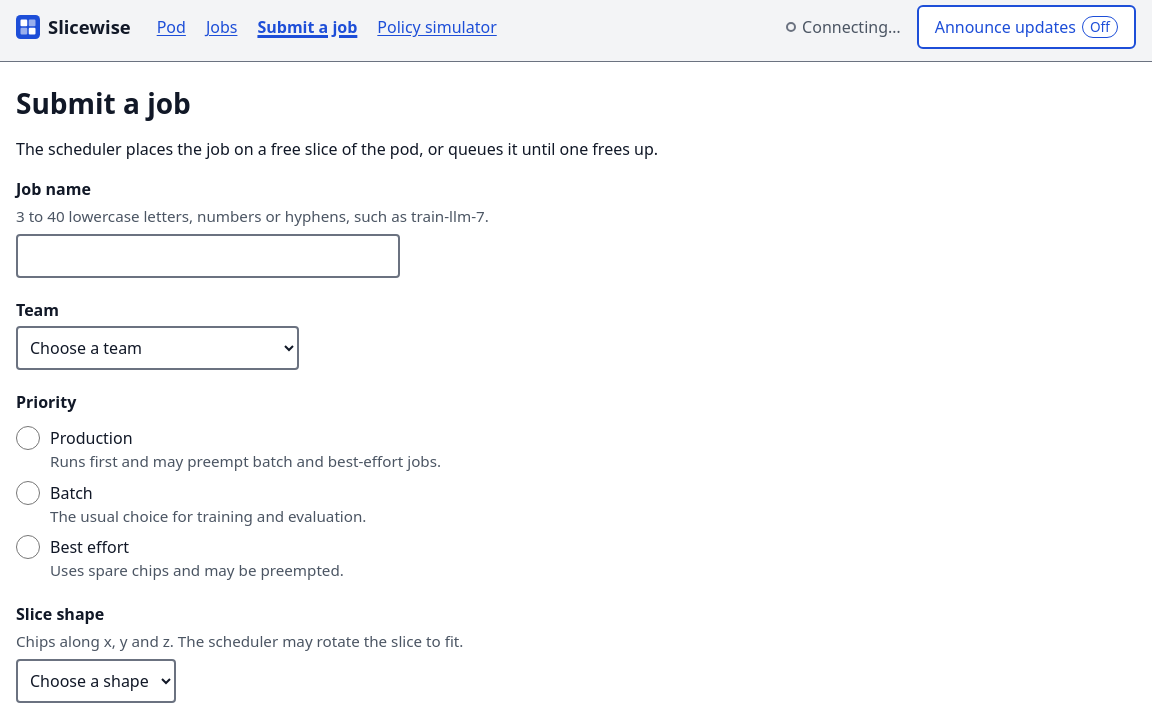
Test: submit form › offers only shapes that fit the pod and submits a valid job
Step 1. Type "train-llm-7" into the field labelled "Job name" → (208, 256), box [16,234,400,278]
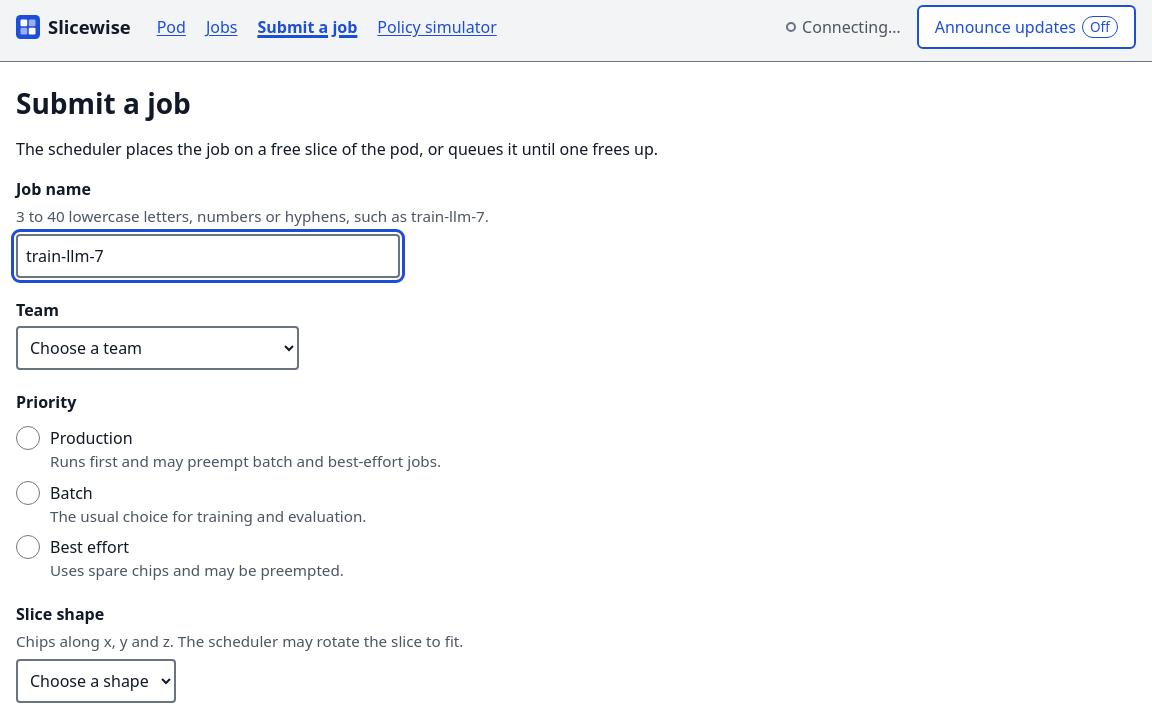
Step 2. Select "research (quota 6 chips, using 4)" in the dropdown labelled "Team" → (158, 348), box [16,326,299,370]
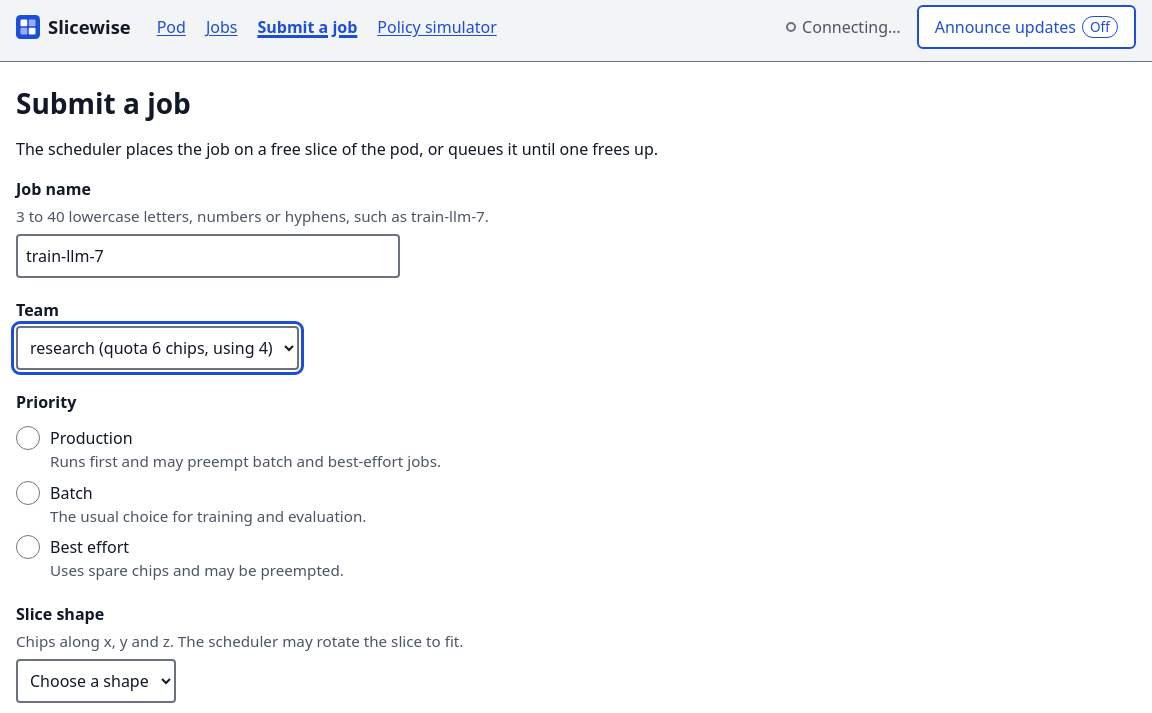
Step 3. Click the radio button labelled "Batch" → click(28, 493), box [16,481,40,505]
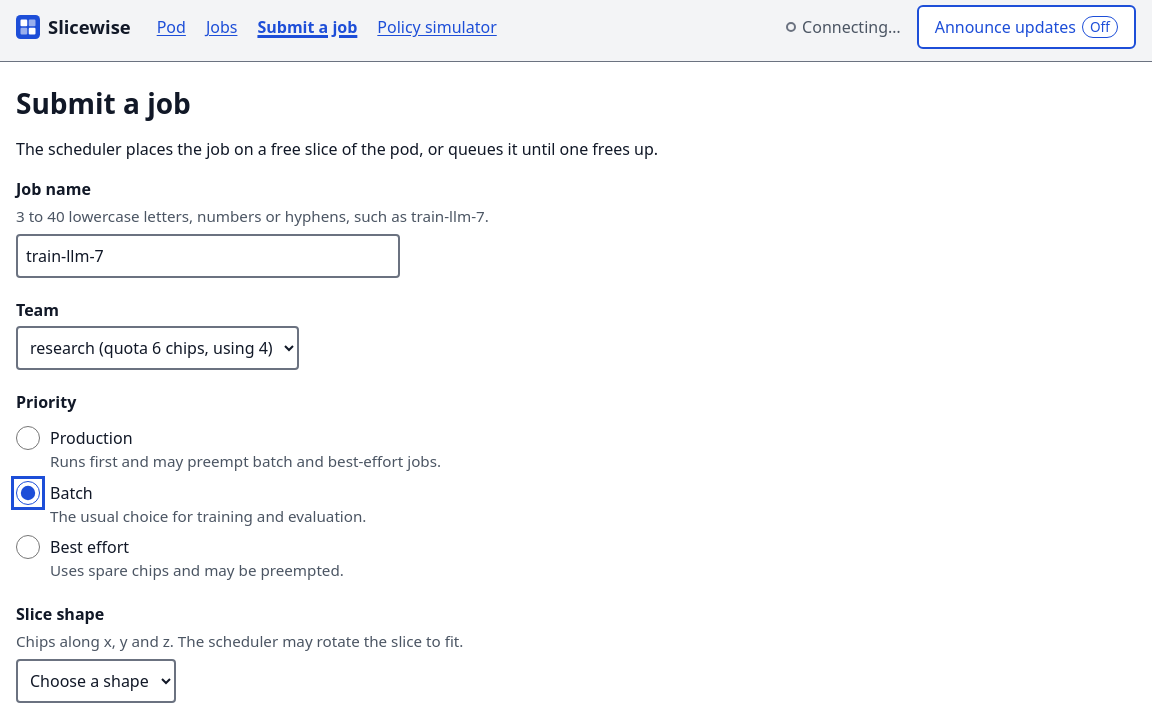
Step 4. Select "2x2x1 (4 chips)" in the dropdown labelled "Slice shape" → (96, 681), box [16,659,176,703]
(page scrolled)
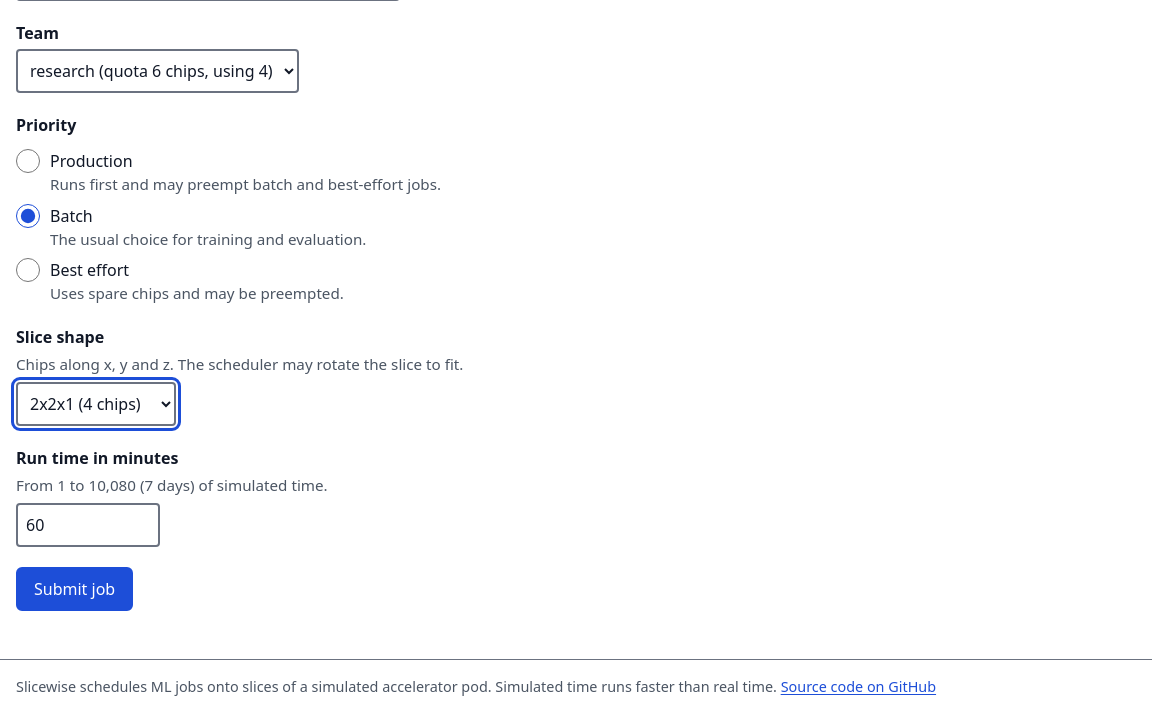
Step 5. Replace the text in the field labelled "Run time in minutes" with "90" → (88, 525), box [16,503,160,547]
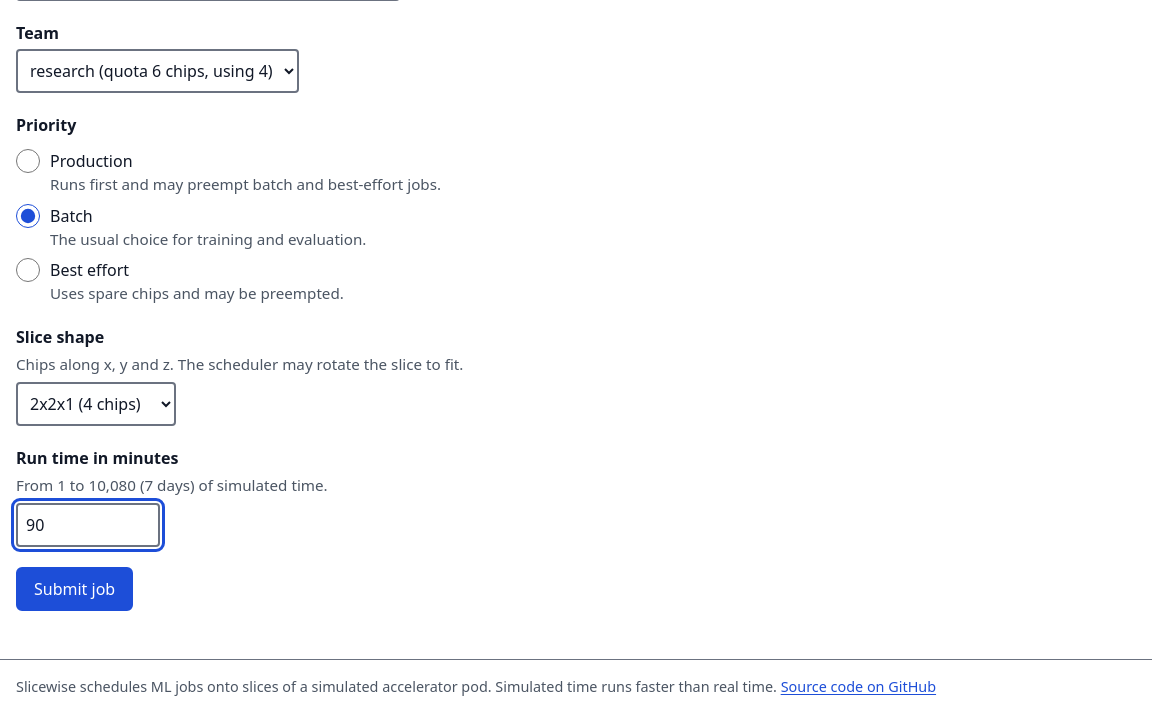
Step 6. Click the button "Submit job" → click(75, 589), box [16,567,133,611]
(page scrolled)
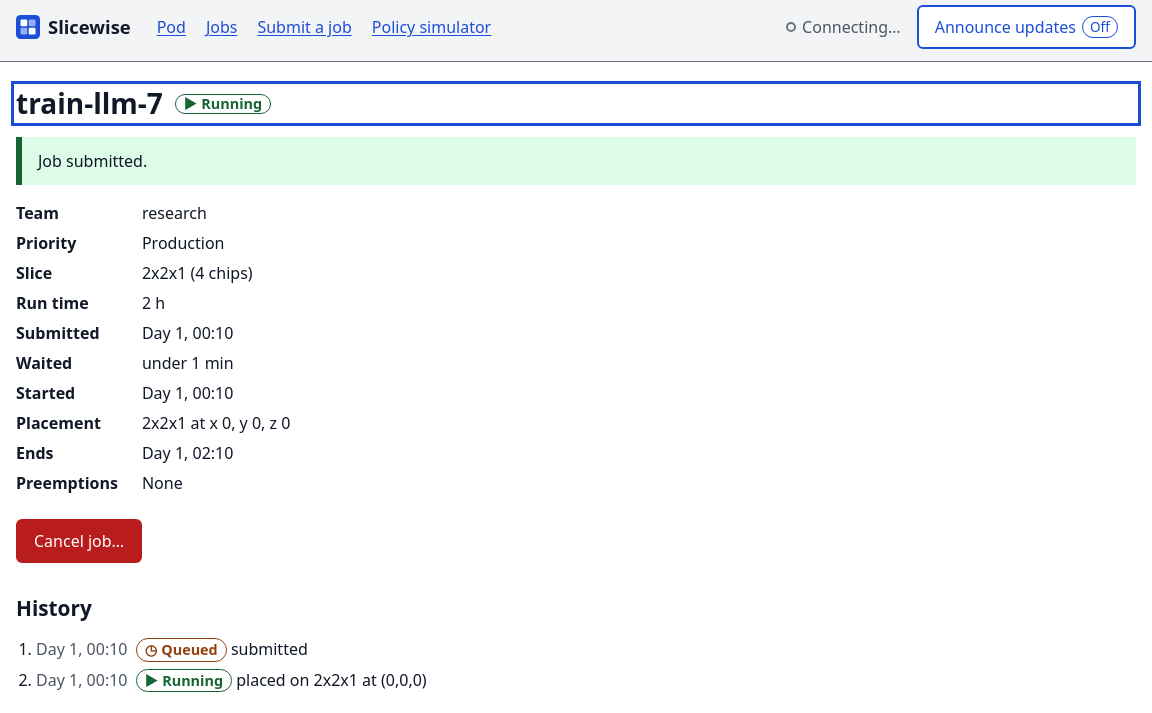
expect the heading "train-llm-7 ▶ Running" is shown: met, box [16,84,271,122]
expect the text "Job submitted." is shown: met, box [16,137,1136,185]
